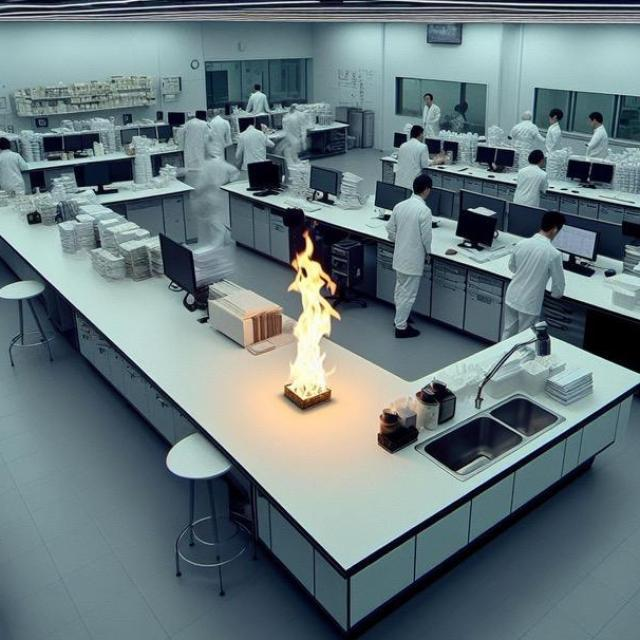smoke: (286, 232, 337, 402)
